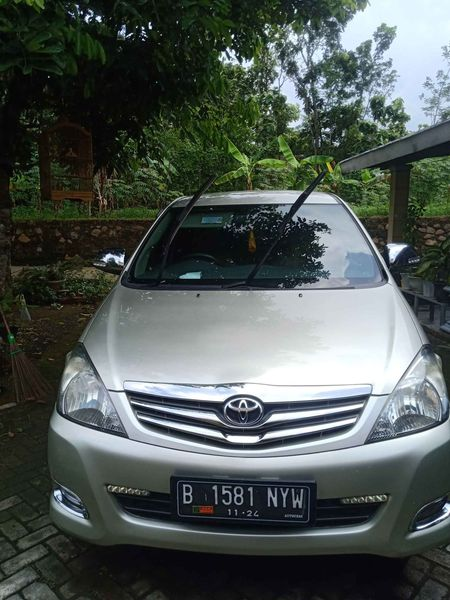plate: (172, 474, 317, 526)
